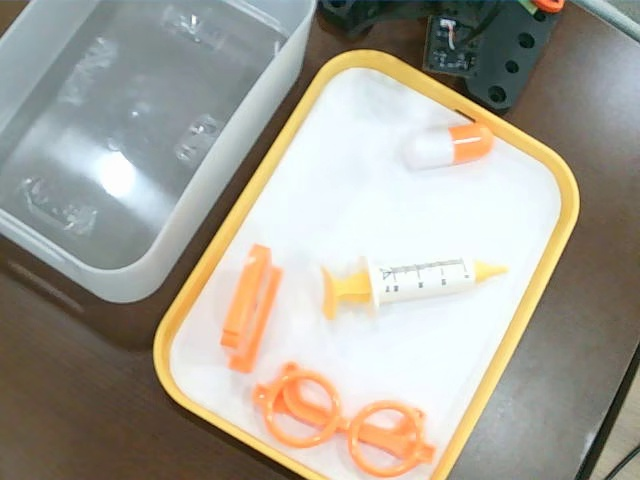pill: (402, 123, 498, 173)
syringe: (319, 254, 511, 319)
